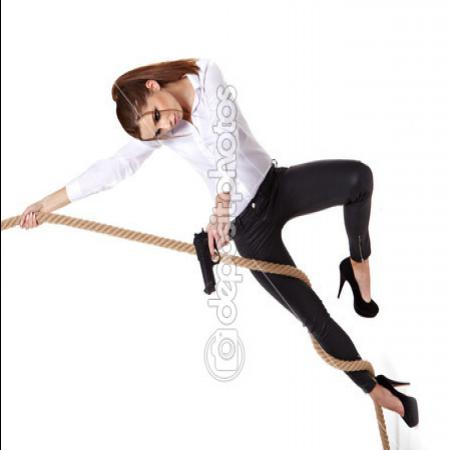Pistol: (186, 222, 238, 301)
